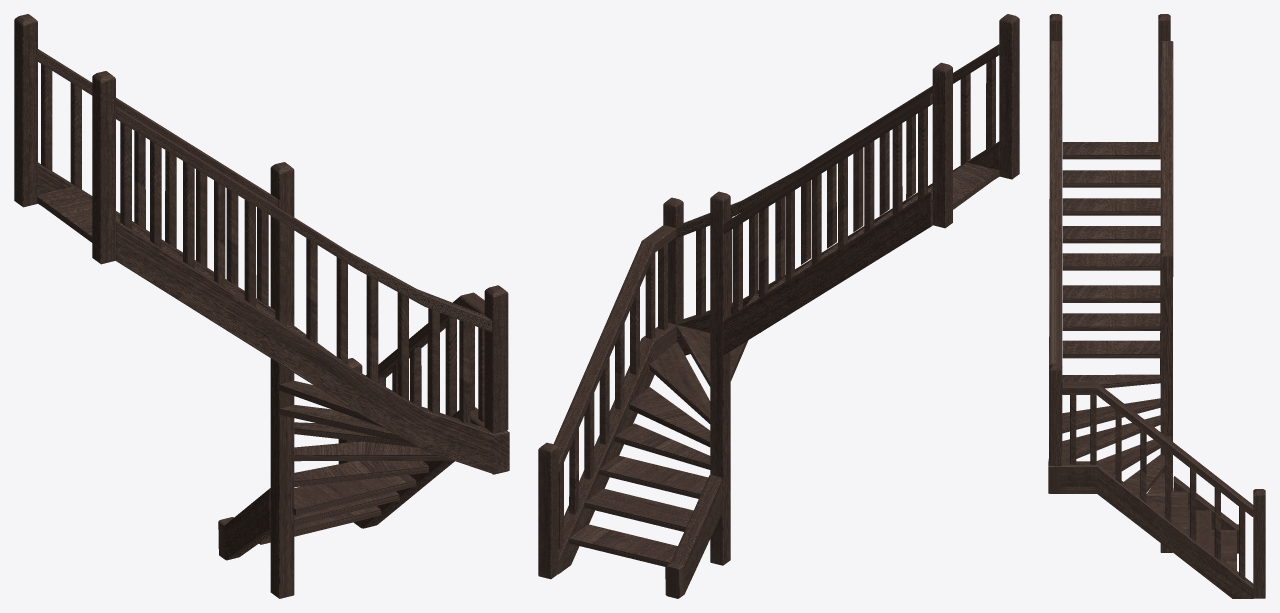
The model's file is stairs_up.fbx.
The picture shows the model from 3 angles, left to right: view 1: azimuth 30°, elevation 25°; view 2: azimuth 150°, elevation 25°; view 3: azimuth 270°, elevation 25°; orthographic projection. The views are drawn at different scales.
Parts seen in each view (by area): view 1: fencing.003; view 2: fencing.003; view 3: fencing.003.
Boxes of the visible parts, x1,y1,x2,y2 form: fencing.003: (14, 14, 509, 598); fencing.003: (538, 14, 1019, 598); fencing.003: (1048, 14, 1265, 598).
Size of the model in its own units: 210 by 317 by 139.
